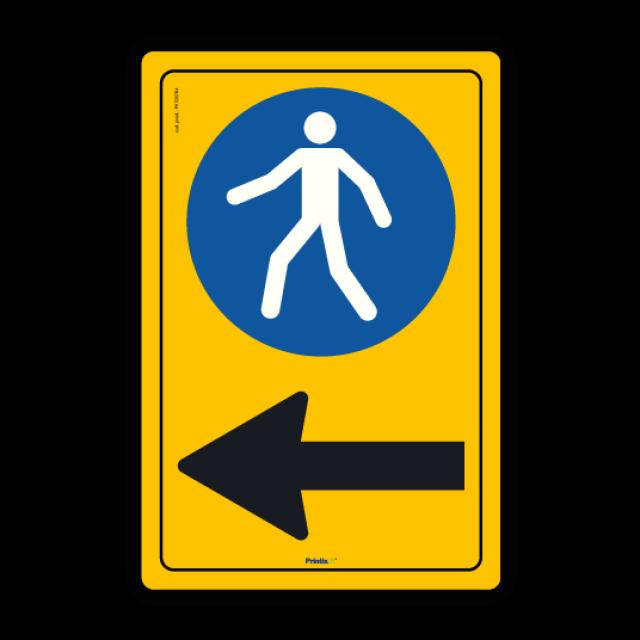Pedestrian crosswalk: (134, 44, 507, 594)
